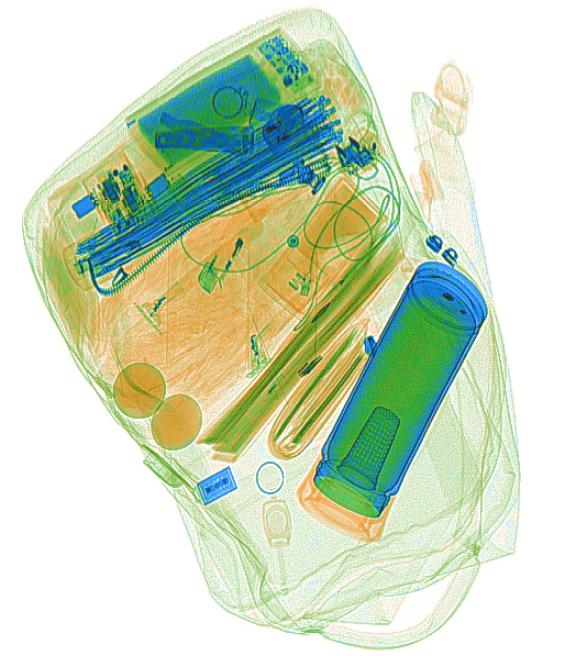lighter: (193, 191, 266, 295)
plasticBottleWithaNozzle: (254, 168, 393, 320)
